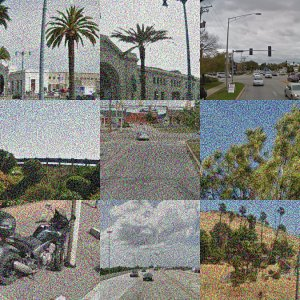棕櫚樹: (46, 8, 100, 100), (111, 22, 163, 101)
汽車: (124, 266, 158, 284), (282, 82, 300, 101), (251, 75, 266, 88)
紅綠燈: (244, 45, 281, 60)
自行車: (1, 209, 74, 280)
